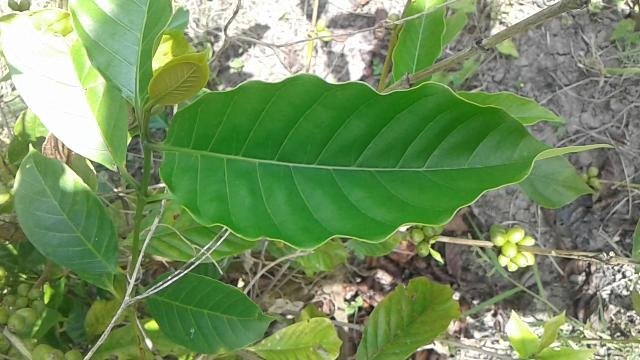healthy: (160, 73, 610, 250)
